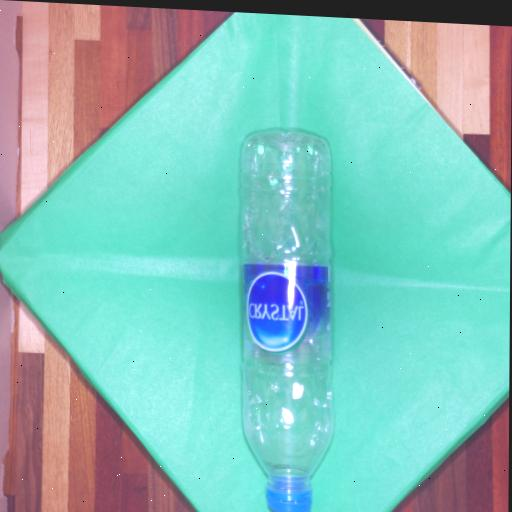bottle: (239, 126, 334, 512)
